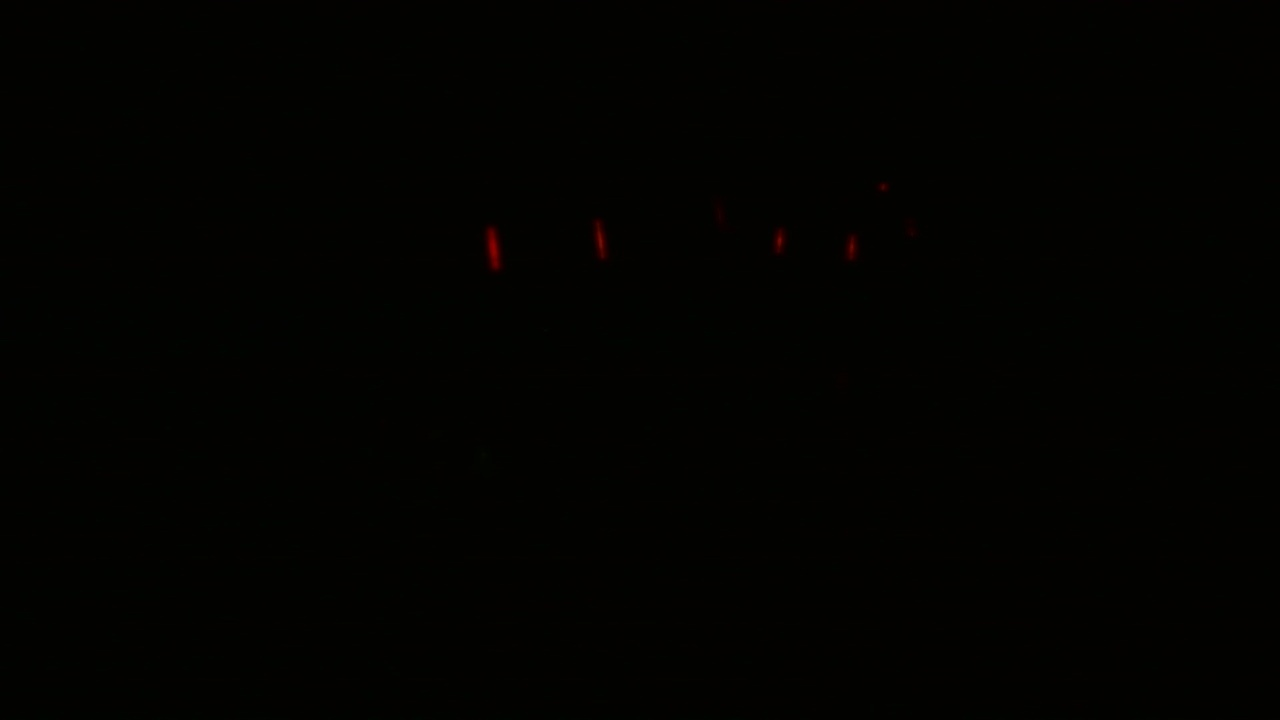pair1: (482, 212, 617, 280)
pair2: (769, 221, 862, 271)
